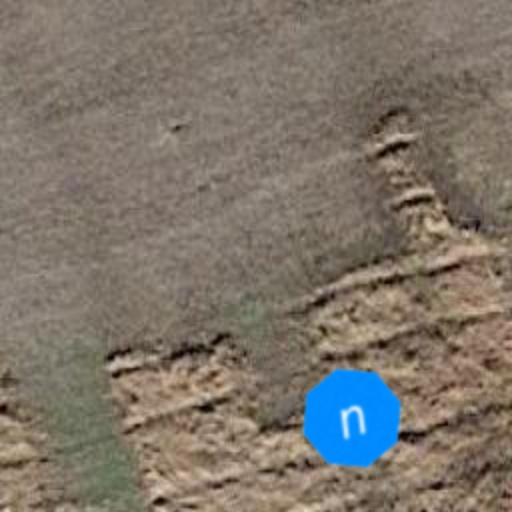octagon: (286, 352, 418, 484)
